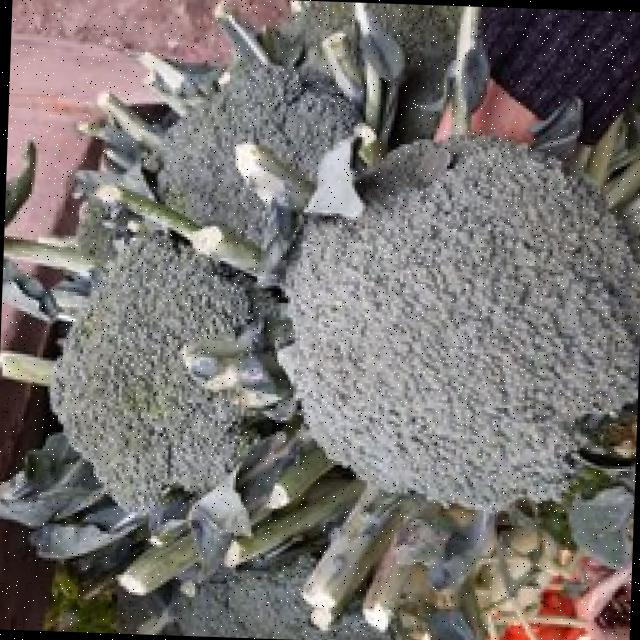Broccoli: (284, 136, 640, 509), (284, 136, 640, 508), (50, 233, 254, 507), (50, 232, 251, 510), (157, 60, 358, 242), (157, 68, 355, 238), (177, 554, 389, 640), (177, 554, 388, 640)
